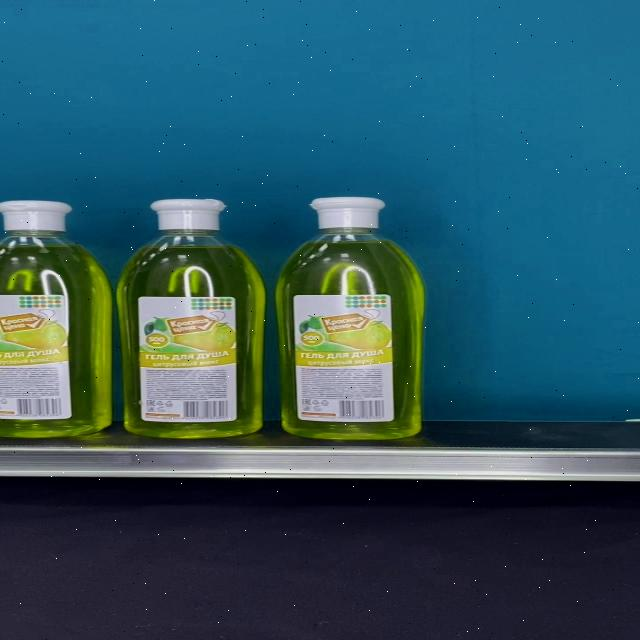Bottle: (275, 196, 426, 440), (116, 199, 264, 439), (0, 201, 111, 438)
Cap: (308, 197, 385, 230), (148, 200, 226, 232), (0, 201, 74, 233)
